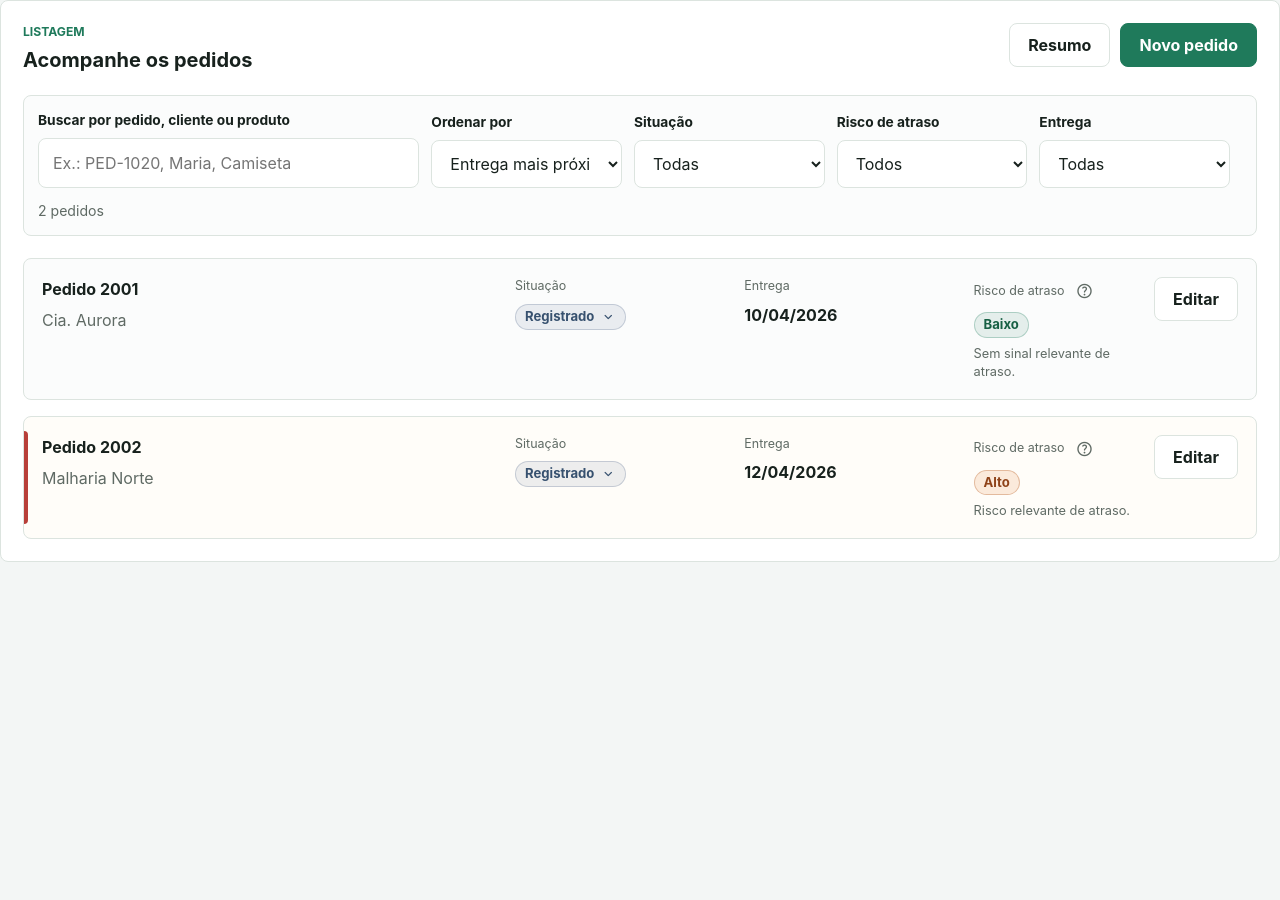
Test: OrdersListPageComponent › abre um modal de ajuda ao clicar no icone de risco de atraso
Click the button with class "orders-list__help-button" in the row of "Pedido 2001".
click(1085, 291)  # box [1071,277,1099,305]
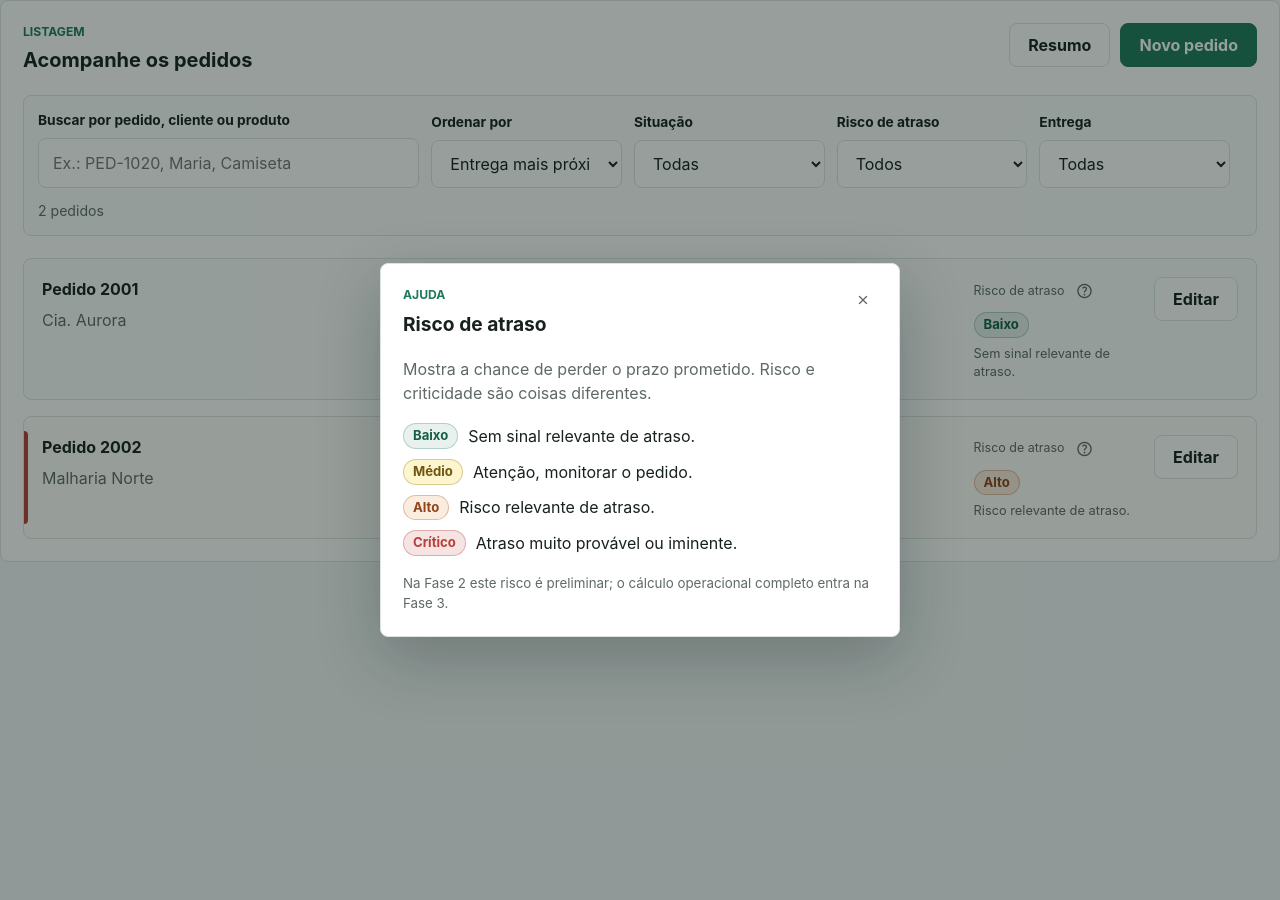
Expected: the dialog with class "orders-list__help-panel" is shown, [380,263,900,637]
Expected: the dialog with class "orders-list__help-panel" shows "Risco de atraso", [403,312,547,336]
Expected: the dialog with class "orders-list__help-panel" shows "Mostra a chance de perder o prazo prometido.", [403,359,815,403]
